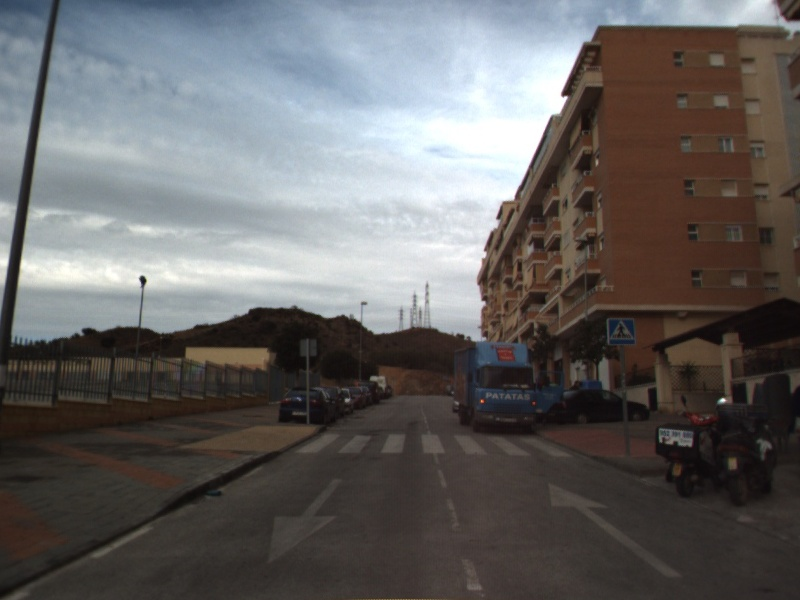STRAIGHT: (547, 481, 684, 579)
